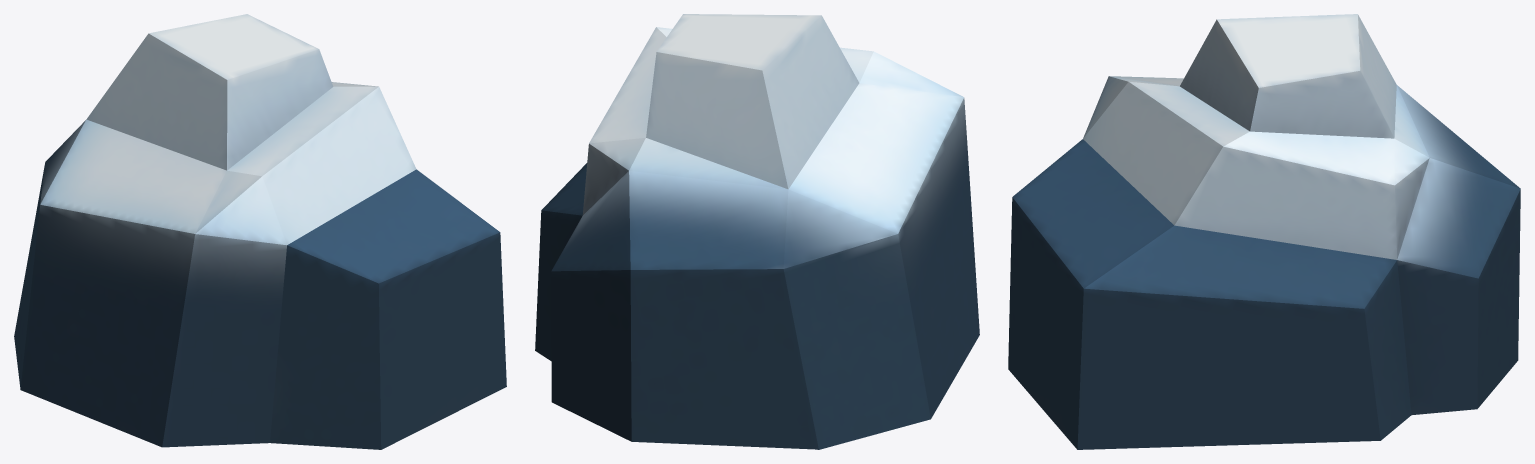
Rendered from Rock_7.fbx.
The picture shows the model from 3 angles, left to right: view 1: azimuth 30°, elevation 25°; view 2: azimuth 150°, elevation 25°; view 3: azimuth 270°, elevation 25°; orthographic projection. The views are drawn at different scales.
Visible parts, largest first — view 1: Rock_7; view 2: Rock_7; view 3: Rock_7.
Boxes of the visible parts, x1,y1,x2,y2 form: Rock_7: (14, 14, 506, 449); Rock_7: (535, 14, 979, 449); Rock_7: (1008, 14, 1520, 449).
Size of the model in its own units: 1.01 by 0.8116 by 1.17.
